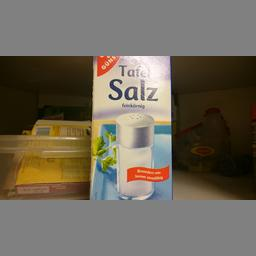spices: (90, 55, 172, 199)
